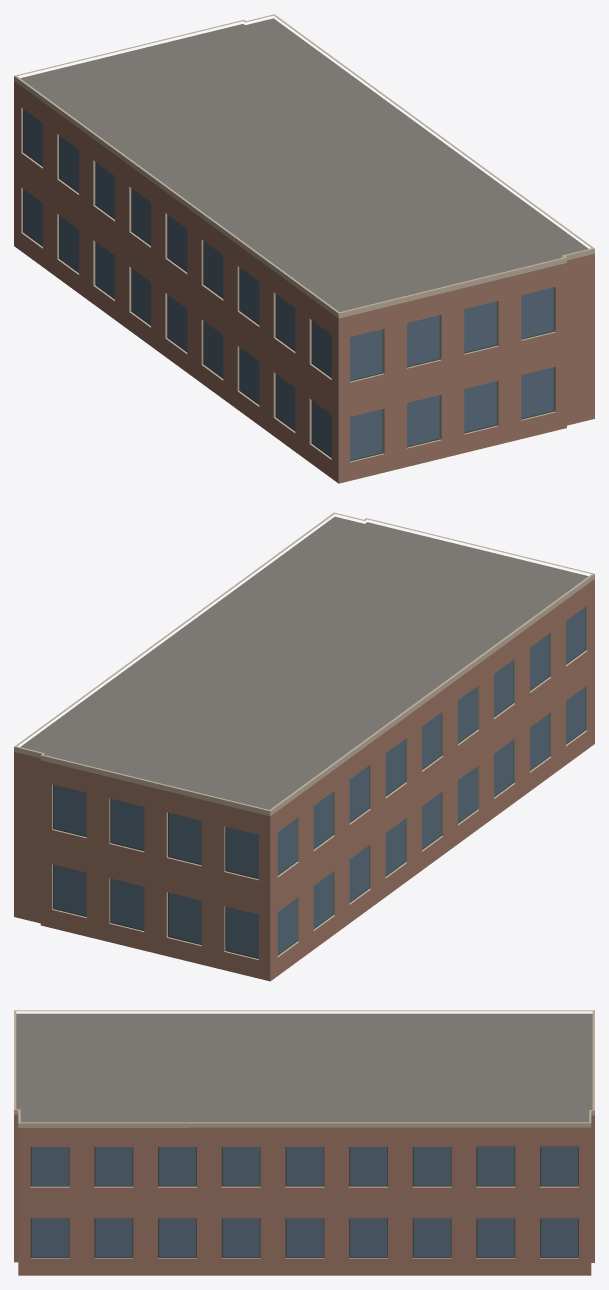
Rendered from dc-au-kreeger-building.detail.glb.
The picture shows the model from 3 angles, top to bottom: view 1: azimuth 30°, elevation 25°; view 2: azimuth 150°, elevation 25°; view 3: azimuth 270°, elevation 25°; orthographic projection. The views are drawn at different scales.
Visible parts, largest first — view 1: Kreeger Building; view 2: Kreeger Building; view 3: Kreeger Building.
Part boxes in pixels (x1,y1,x2,y2): Kreeger Building: (14, 14, 594, 483); Kreeger Building: (14, 512, 594, 981); Kreeger Building: (14, 1010, 594, 1275).
Bounding box in the file's own units: 17.18 × 10.8 × 37.35.
